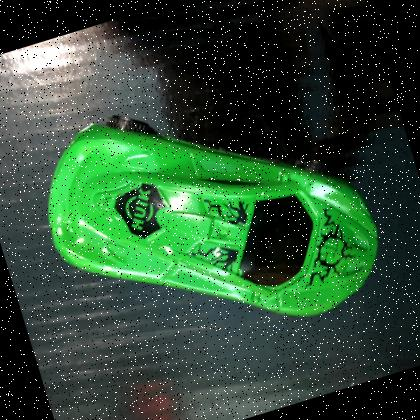Car: (20, 47, 400, 386)
